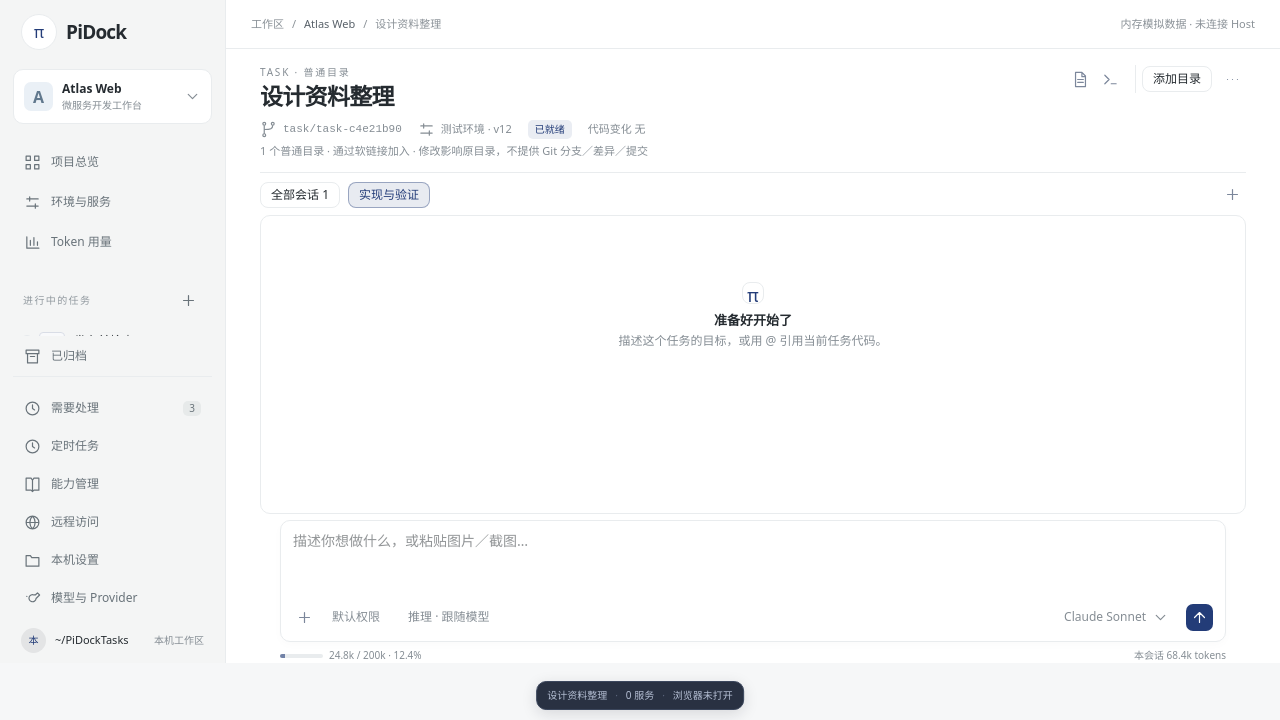
Scenario: ordinary-directory task page › lists already-added directories as checked and disabled when adding to a task
Expected: the text "TASK · 普通目录" is shown, [260,65,351,79]
Click the button "添加目录". click: (1177,79)
box: [1142,66,1212,92]
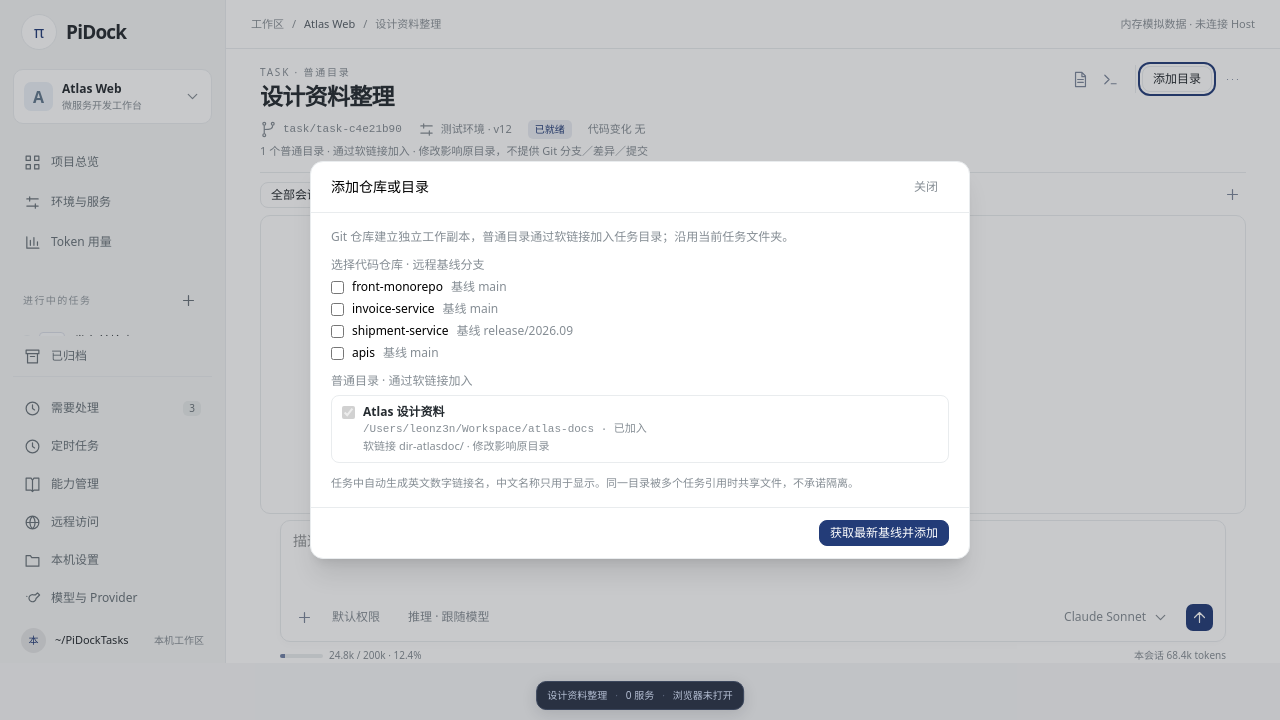
Expected: the checkbox named "任务目录 Atlas 设计资料" is checked, [342,406,355,420]
Expected: the checkbox named "任务目录 Atlas 设计资料" is disabled, [342,406,355,420]
Expected: the text "/Users/leonz3n/Workspace/atlas-docs · 已加入" is shown, [363,424,647,436]
